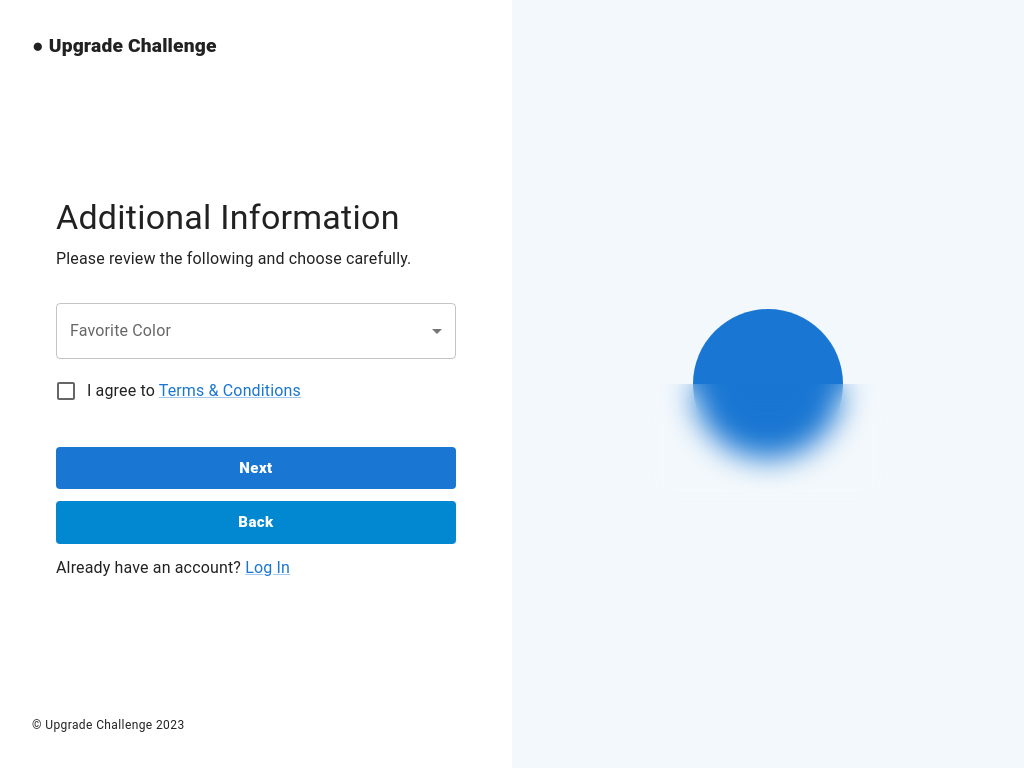
Test case: AdditionalInfoPage › should update color error on blur
Click the button with test id "next-button". click: (256, 468)
box: [56,447,456,490]
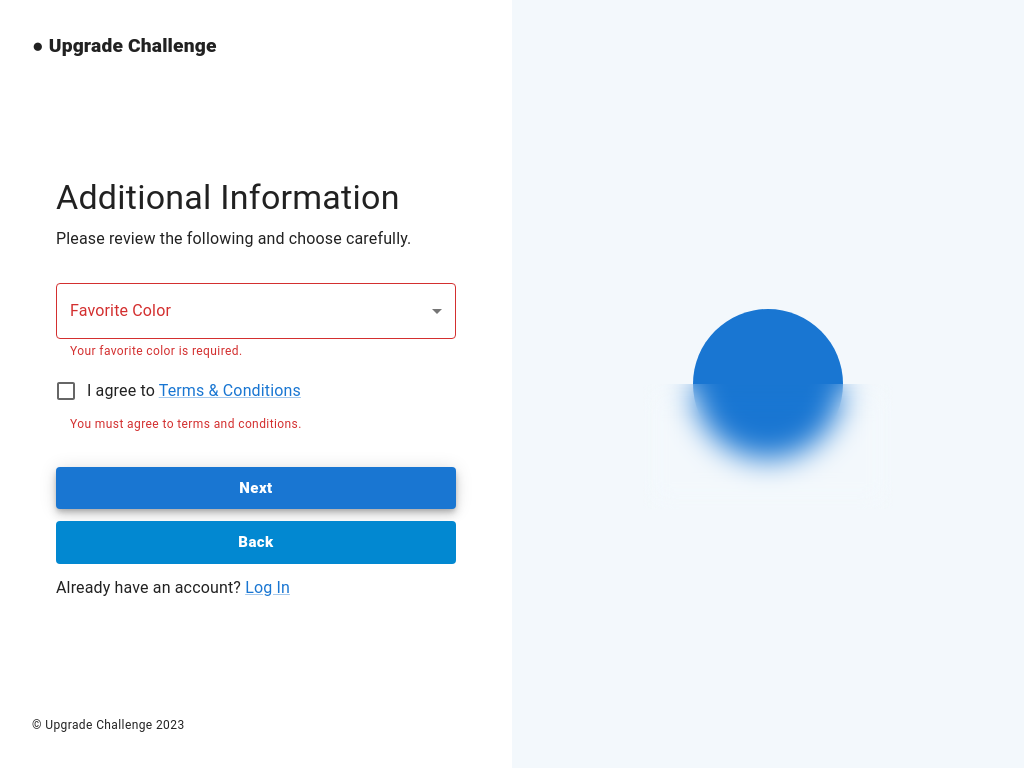
Expected: the text "Your favorite color is required." is shown, [70,344,242,358]
